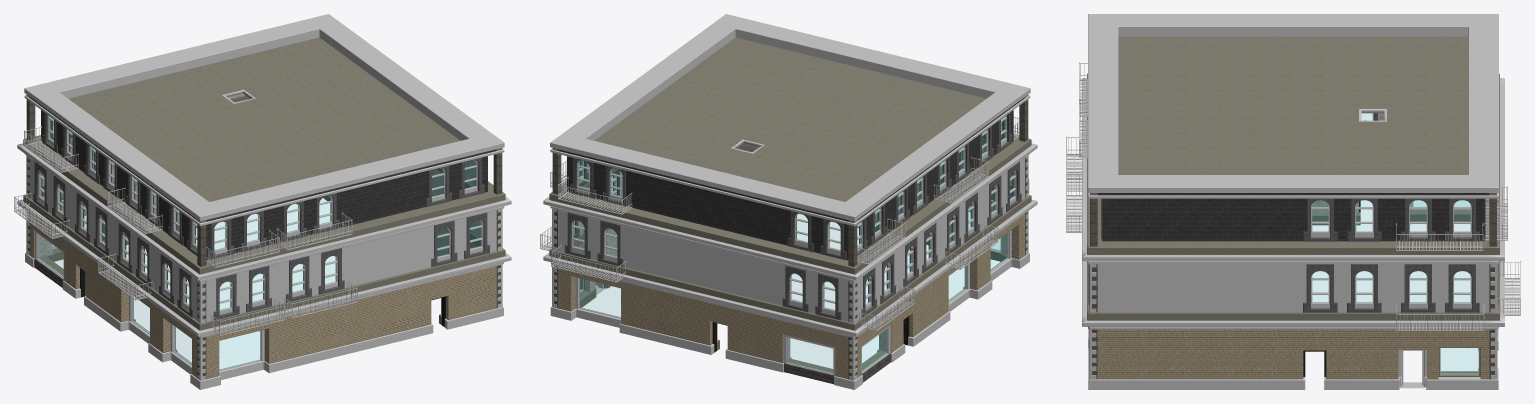
The model's file is Building18.fbx.
The picture shows the model from 3 angles, left to right: view 1: azimuth 30°, elevation 25°; view 2: azimuth 150°, elevation 25°; view 3: azimuth 270°, elevation 25°; orthographic projection. The views are drawn at different scales.
Visible parts, largest first — view 1: SM_Building18; view 2: SM_Building18; view 3: SM_Building18.
Boxes of the visible parts, x1,y1,x2,y2 form: SM_Building18: [14, 14, 511, 389]; SM_Building18: [540, 14, 1037, 389]; SM_Building18: [1066, 14, 1520, 389].
Bounding box in the file's own units: 2540 × 1249 × 2540.
